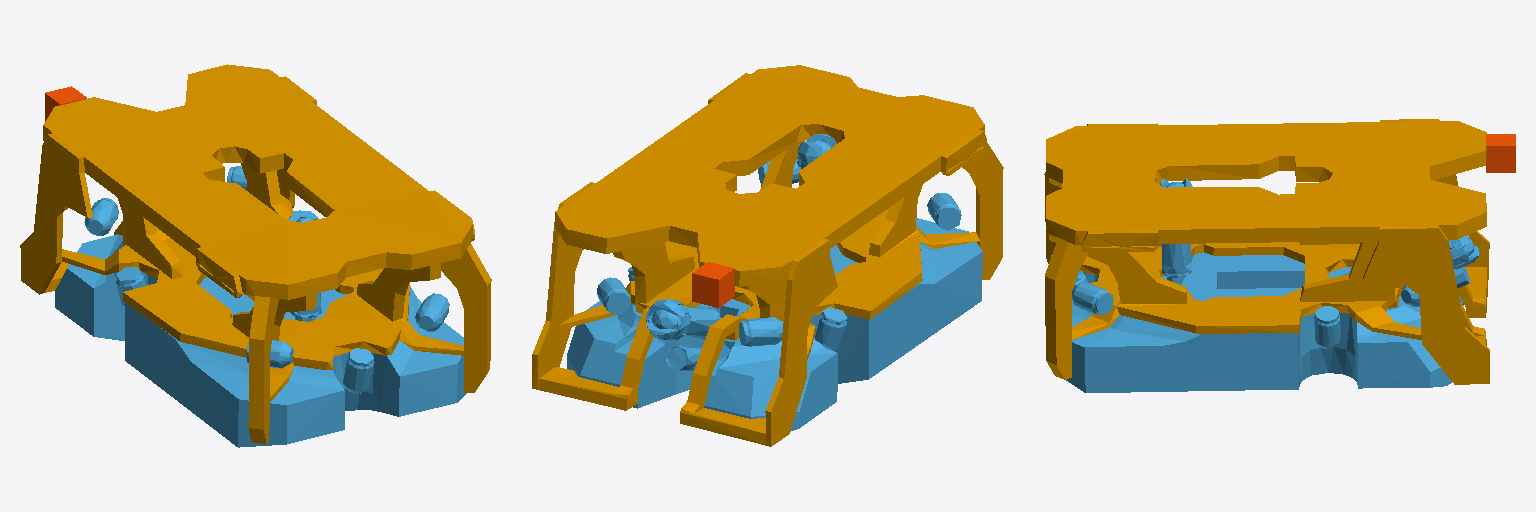
The robot description file, URDF, robot "bluevolta_bravo_5":
<?xml version="1.0" encoding="utf-8"?>
<robot name="bluevolta_bravo_5">

        <material name="green2">
        <color rgba="0.235 0.702 0.443 1"/>
        </material>

        <material name="blue">
        <color rgba="0.263 0.733 0.984 1"/>
        </material>

        <material name="trans_black">
        <color rgba="0.8 0.8 0.8 1"/>
        </material>

        <material name="black2">
        <color rgba="0.8 0.8 0.8 1"/>
        </material>

        <material name="orange">
        <color rgba="1 0.369 0.047 1"/>
        </material>

        <material name="green">
        <color rgba="0 1 0 0.5"/>
        </material>

        <material name="bravo_black">
        <color rgba="0.3 0.3 0.3 0.7"/>
        </material>

        <material name="bravo_jaws_black">
            <color rgba="0.3 0.3 0.3 1"/>
        </material>

<link name="mobile_base">
    <visual>
        <geometry>
            <mesh filename="package://uvm_description/meshes/bluevolta/bluevolta_base.obj" scale="1 1 1"/>
        </geometry>
    </visual>
</link>
            
    <joint name="link_rov1" type="fixed">
        <origin xyz="0 0 0" rpy="0 0 0"/>
        <parent link="mobile_base"/>
        <child link="mobile_base2"/>
    </joint>
            
<link name="mobile_base2">
    <visual>
            <geometry>
                <mesh filename="package://uvm_description/meshes/bluevolta/bluevolta.obj" scale="1 1 1"/>
            </geometry>
    </visual>
</link>
            
<link name="box_base_bravo">
    <visual>
        <geometry>
            <box size="0.1 0.1 0.1"/>
        </geometry>
        <material name="orange"/>
    </visual>
</link>

    <joint name="box_base_bravo_joint" type="fixed">
        <origin xyz="-0.25 0.835 0.17" rpy="0 0 0"/>
        <parent link="mobile_base2"/>
        <child link="box_base_bravo"/>
    </joint>
    
        
    <joint name="BlueVoltaToRB7" type="fixed">
        <origin rpy="3.14 0.0 1.570796327" xyz="0 -0.05 -0.05"/>
        <parent link="box_base_bravo"/>
        <child link="bravo_base_link"/>
    </joint>
  
<link name="bravo_base_link">
    <visual>
    <geometry>
        <mesh filename="package://uvm_description/meshes/RS2-1019_base.stl"/>
    </geometry>
    <material name="blue"/>
    </visual>
</link>

        <joint name="joint1" type="revolute">
            <parent link="bravo_base_link"/>
            <origin rpy="0 0 3.14159" xyz="0.0665 0 0.08"/>
            <axis xyz="0 0 -1"/>
            <child link="link1_1"/>
            <limit effort="0" lower="0.0" upper="6.3" velocity="0"/>
        </joint>

<link name="link1_1">
    <visual>
        <geometry>
        <mesh filename="package://uvm_description/meshes/RS2-1019_end.stl"/>
        </geometry>
        <material name="green2"/>
    </visual>
</link>

        <joint name="bravo_d_base_joint" type="fixed">
            <parent link="link1_1"/>
            <origin rpy="0 0 0" xyz="0 0 0"/>
            <child link="link1_2"/>
        </joint>

<link name="link1_2">
    <visual>
        <geometry>
        <mesh filename="package://uvm_description/meshes/RS2-1013_base.stl"/>
        </geometry>
        <material name="blue"/>
    </visual>
</link>

        <joint name="joint2" type="revolute">
            <parent link="link1_2"/>
            <origin rpy="0 0 0" xyz="0.046 0 0.0642"/>
            <axis xyz="0 -1 0"/>
            <child link="link2_1"/>
            <limit effort="0" lower="0.0" upper="3.2" velocity="0"/>
        </joint>

<link name="link2_1">
    <visual>
        <geometry>
        <mesh filename="package://uvm_description/meshes/RS2-1013_end.stl"/>
        </geometry>
        <material name="green2"/>
    </visual>
</link>

        <joint name="fixed0" type="fixed">
            <parent link="link2_1"/>
            <origin rpy="3.14159 0 3.14159" xyz="0.046 0 -0.05055"/>
            <child link="bravo_1013_end_link"/>
        </joint>

<link name="bravo_1013_end_link"/>

        <joint name="fixed1" type="fixed">
            <parent link="bravo_1013_end_link"/>
            <origin rpy="0 0 0" xyz="0 0 0.182"/>
            <child link="link2_3"/>
        </joint>

<link name="link2_2">
    <visual>
    <geometry>
        <mesh filename="package://uvm_description/meshes/RS2-1030.stl"/>
    </geometry>
    <material name="blue"/>
    </visual>
</link>

        <joint name="fixed4" type="fixed">
            <parent link="bravo_1013_end_link"/>
            <child link="link2_2"/>
            <origin rpy="0 0 0" xyz="0 0 0"/>
        </joint>

<link name="link2_3">
    <visual>
        <geometry>
        <mesh filename="package://uvm_description/meshes/RS2-1023_0_base.stl"/>
        </geometry>
        <material name="blue"/>
    </visual>
</link>

        <joint name="joint3" type="revolute">
            <parent link="link2_3"/>
            <origin rpy="0 0 0" xyz="0.042 0 0.0578"/>
            <axis xyz="0 -1 0"/>
            <child link="link3"/>
            <limit effort="0" lower="0.0" upper="3.2" velocity="0"/>
        </joint>

<link name="link3">
    <visual>
        <geometry>
        <mesh filename="package://uvm_description/meshes/RS2-1023_0_end.stl"/>
        </geometry>
        <material name="green2"/>
    </visual>
</link>

        <joint name="fixed2" type="fixed">
            <parent link="link3"/>
            <origin rpy="3.14159 0 0" xyz="0.0408 0 -0.09385"/>
            <child link="bravo_1023_0_end_link"/>
        </joint>

  <link name="bravo_1023_0_end_link"/>

        <joint name="fixed3" type="fixed">
            <parent link="bravo_1023_0_end_link"/>
            <origin rpy="0 0 0" xyz="0 0 0"/>
            <child link="link4_0"/>
        </joint>

  <link name="link4_0"/>

        <joint name="joint4" type="continuous">
            <parent link="link4_0"/>
            <origin rpy="0 0 0" xyz="0 0 0.0005"/>
            <axis xyz="0 0 -1"/>
            <child link="link4_1"/>
        </joint>

<link name="link4_1">
    <visual>
        <geometry>
        <mesh filename="package://uvm_description/meshes/RS2-1023_1_end.stl"/>
        </geometry>
        <material name="blue"/>
    </visual>
</link>

        <joint name="bravo_1023_1_end_joint" type="fixed">
            <parent link="link4_1"/>
            <origin rpy="0 0 0" xyz="0 0 0.0056"/>
            <child link="bravo_1023_1_end_link"/>
        </joint>

<link name="bravo_1023_1_end_link"/>

        <joint name="bravo_a_base_joint" type="fixed">
            <parent link="bravo_1023_1_end_link"/>
            <origin rpy="0 0 0" xyz="0 0 0"/>
            <child link="link4_2"/>
        </joint>

<link name="link4_2">
    <visual>
        <geometry>
        <mesh filename="package://uvm_description/meshes/RS2-1028.stl"/>
        </geometry>
        <material name="blue"/>
    </visual>
</link>

        <joint name="fixed_ee" type="fixed">
            <parent link="link4_2"/>
            <origin rpy="0.0 0 0" xyz="0 0 0.120"/>
            <child link="end_effector"/>
        </joint>

<link name="end_effector"/>

        <joint name="fixed_contact_point" type="fixed">
            <parent link="end_effector"/>
            <origin rpy="0 0 0" xyz="0 0 0.05"/>
            <child link="contact_point"/>
        </joint>

<link name="contact_point"/>

</robot>

--- Facts derived from the render (not from the file) ---
Views: 3 orthographic renders of the robot side by side, from view 1: azimuth 30°, elevation 25°; view 2: azimuth 150°, elevation 25°; view 3: azimuth 270°, elevation 25°.
Robot: bluevolta_bravo_5 — 18 links, 17 joints (3 revolute, 1 continuous, 13 fixed); root link mobile_base; default pose: every joint at zero.
Links seen in each view (by area): view 1: mobile_base, mobile_base2, box_base_bravo; view 2: mobile_base, mobile_base2, box_base_bravo; view 3: mobile_base, mobile_base2, box_base_bravo.
Link boxes in pixels (box(x1,y1,x2,y2)): mobile_base: box(20, 64, 491, 443); mobile_base2: box(55, 166, 466, 447); box_base_bravo: box(45, 86, 86, 121); mobile_base: box(532, 65, 1003, 446); mobile_base2: box(567, 134, 982, 431); box_base_bravo: box(692, 262, 734, 307); mobile_base: box(1044, 119, 1489, 384); mobile_base2: box(1051, 178, 1479, 392); box_base_bravo: box(1486, 134, 1515, 172).
Bounding box of the posed robot: 0.8943 × 1.6 × 0.6841 m (x, y, z).
Meshes: 11 distinct files referenced, 2 mesh visuals loaded (2 OBJ); not drawn: 9 (reference not matched to a file when rendering).